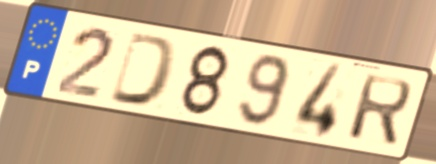2: (54, 25, 117, 101)
4: (292, 61, 346, 142)
8: (177, 42, 235, 119)
9: (237, 53, 293, 129)
D: (105, 29, 182, 110)
R: (344, 72, 415, 150)
